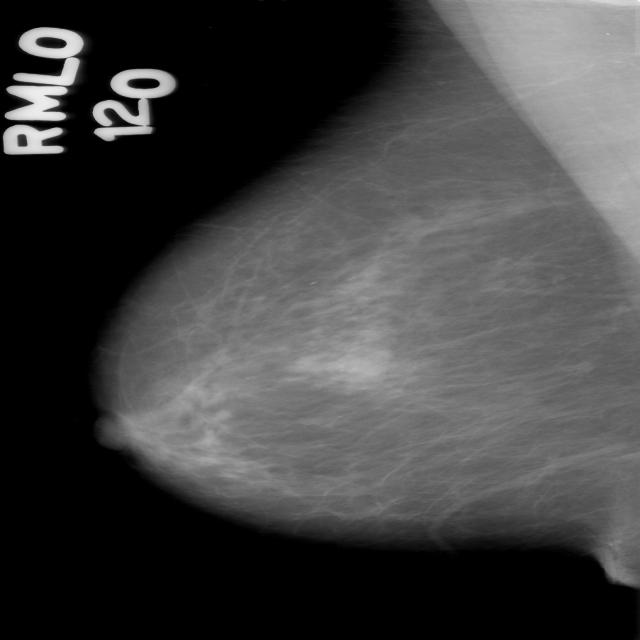normal: (76, 0, 640, 540)
